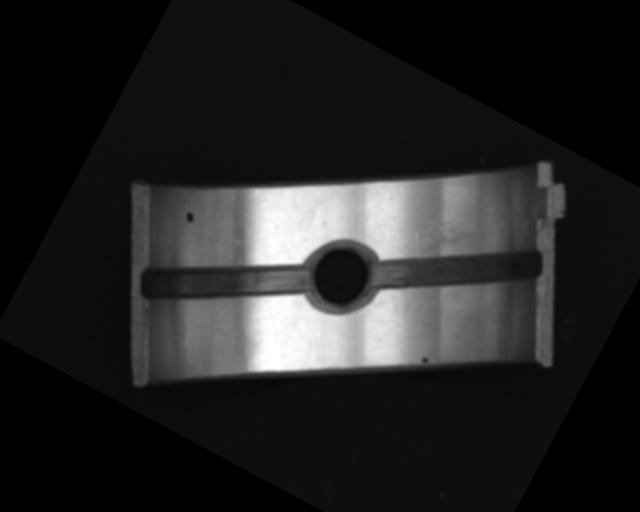blot: (181, 209, 197, 225), (419, 354, 432, 367)
gap: (366, 187, 549, 355), (138, 204, 313, 361)
hole: (293, 229, 387, 325)
scratch: (406, 199, 498, 287)
